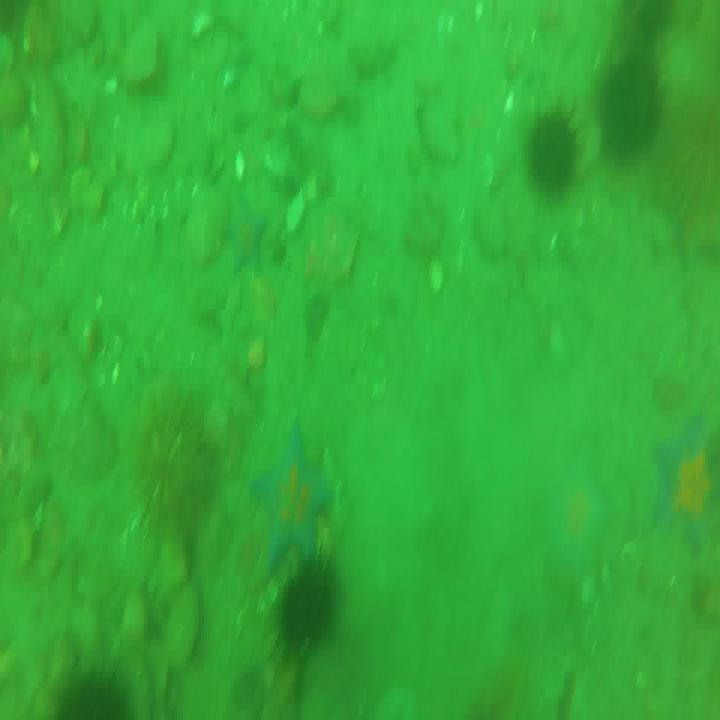echinus: (138, 396, 216, 524), (598, 40, 668, 166), (281, 554, 337, 652), (523, 108, 585, 188), (50, 668, 136, 720), (618, 3, 679, 51)
scallop: (428, 256, 451, 300), (290, 188, 308, 232), (231, 143, 250, 180)
starfish: (248, 423, 338, 578), (646, 411, 720, 556), (550, 466, 603, 570), (225, 201, 269, 277)
